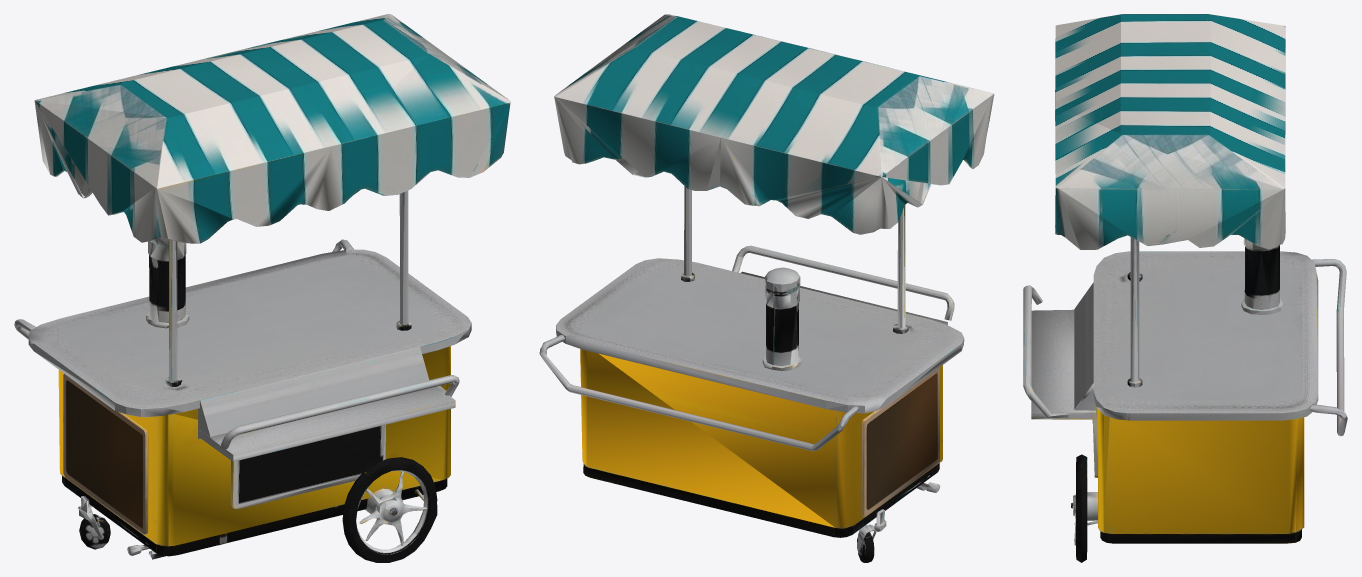
The model's file is food_cart.glb.
3 views of the same model, side by side, from view 1: azimuth 30°, elevation 25°; view 2: azimuth 150°, elevation 25°; view 3: azimuth 270°, elevation 25° (orthographic). The views are drawn at different scales.
Parts seen in each view (by area): view 1: food_cart_lod0; view 2: food_cart_lod0; view 3: food_cart_lod0.
Boxes of the visible parts, <box> form: food_cart_lod0: <box>14,14,510,562</box>; food_cart_lod0: <box>539,14,994,562</box>; food_cart_lod0: <box>1023,14,1347,562</box>.
Size of what is drawn, in the model's own units: 2.2 by 2.8 by 1.83.
Materials: 1 (1 with a texture image).
